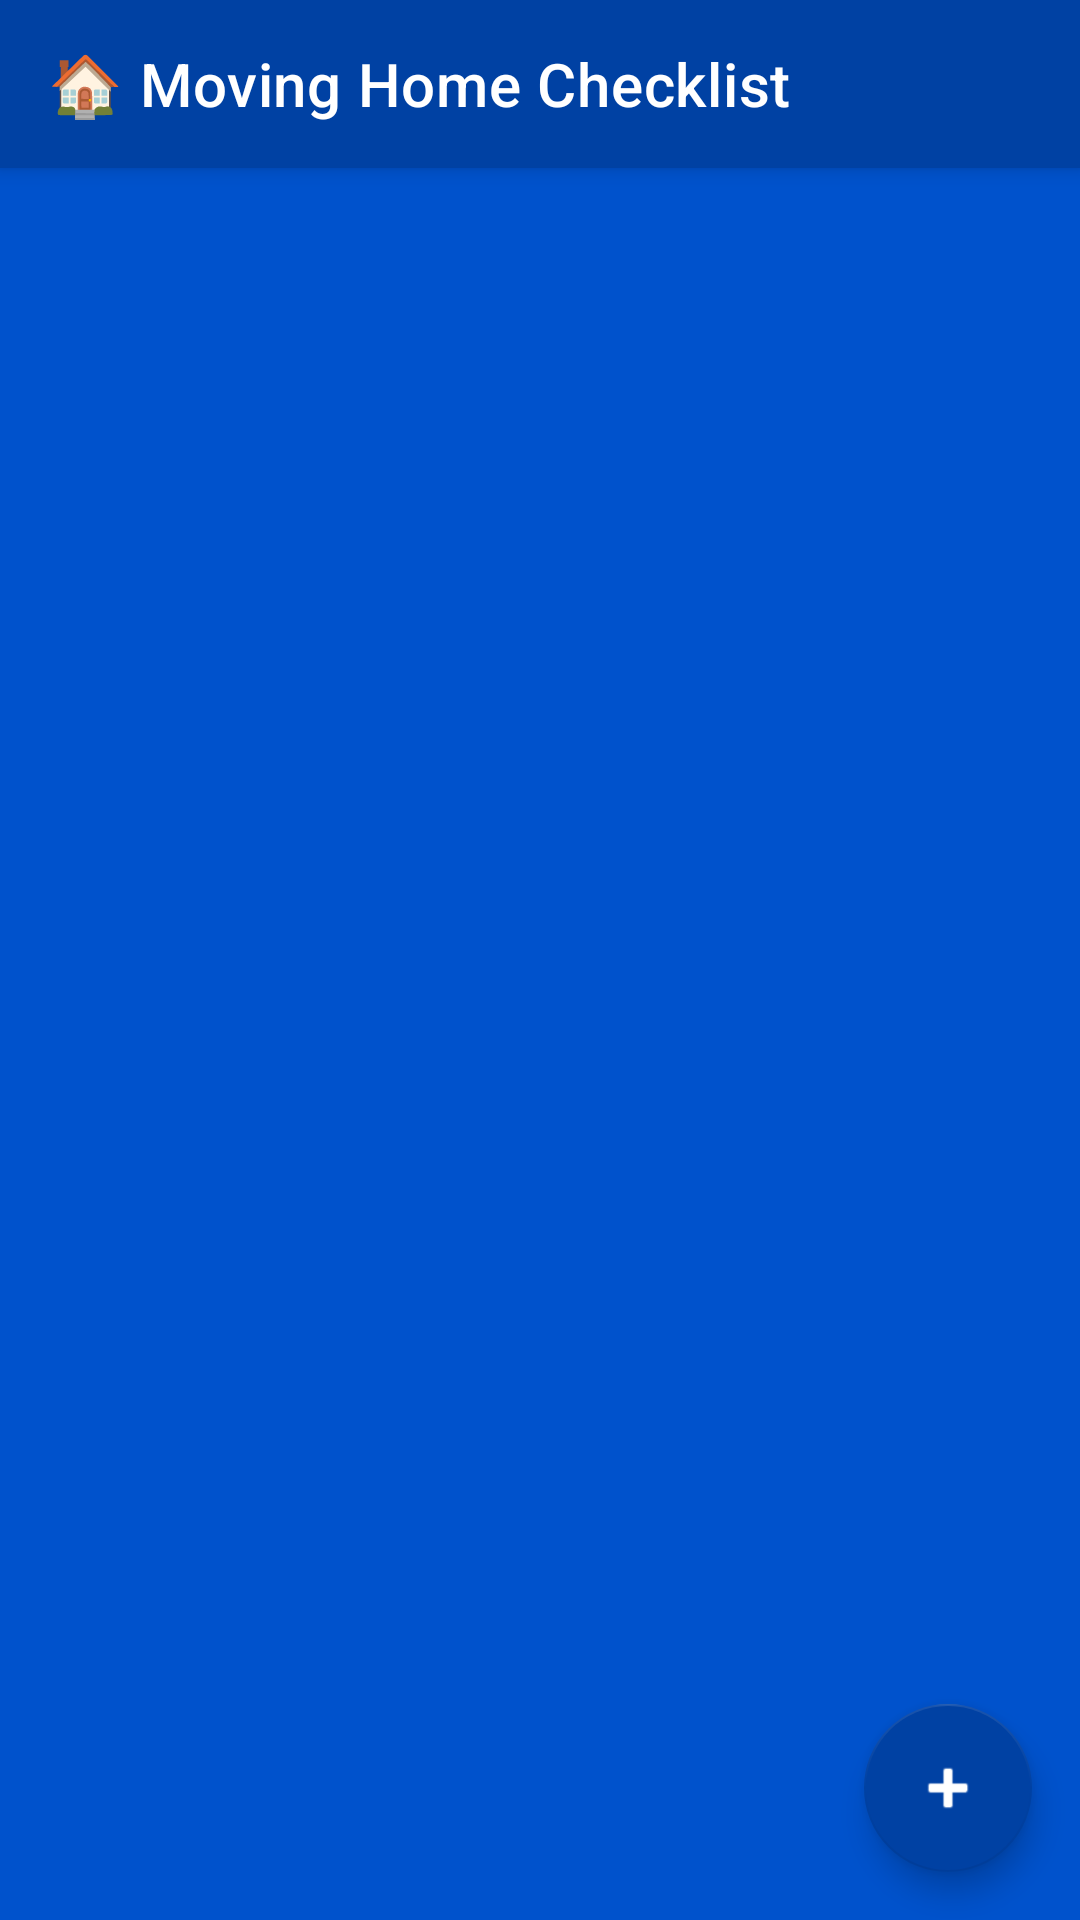

Icons on this 1080px×1920px Android screen, each with its box as (x1, y1, x2, y2):
Add list: (864, 1704, 1032, 1872)
